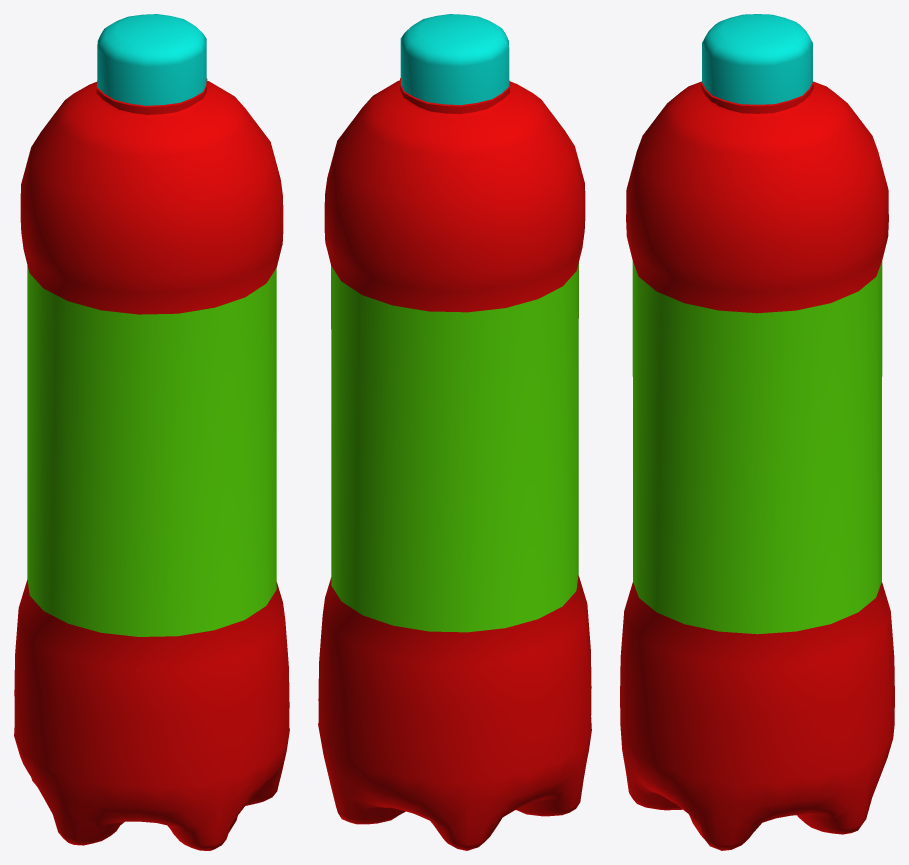
File: fles.fbx
3 views of the same model, side by side, from view 1: azimuth 30°, elevation 25°; view 2: azimuth 150°, elevation 25°; view 3: azimuth 270°, elevation 25° (orthographic).
Parts seen in each view (by area): view 1: pCylinder13; view 2: pCylinder13; view 3: pCylinder13.
Boxes of the visible parts, x1=… form: pCylinder13: x1=14, y1=14, x2=289, y2=850; pCylinder13: x1=318, y1=14, x2=591, y2=850; pCylinder13: x1=620, y1=14, x2=894, y2=850.
Size of the model in its own units: 1.96 by 6.13 by 1.96.
